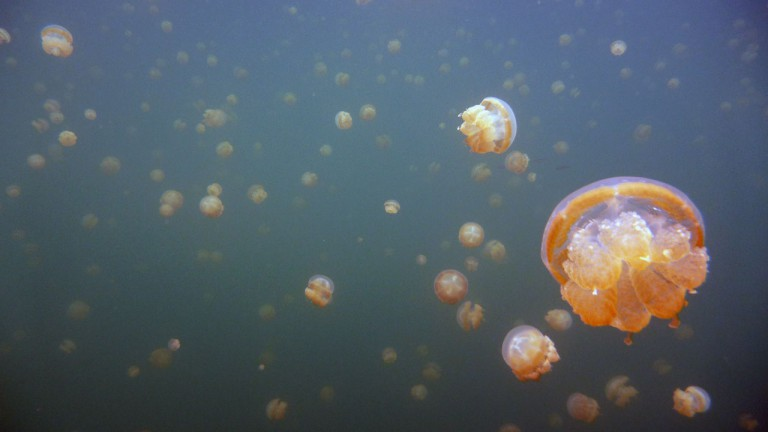jellyfish: (534, 172, 734, 343), (488, 320, 561, 390), (451, 94, 526, 158), (431, 266, 473, 309), (295, 272, 338, 313), (666, 383, 710, 418), (451, 216, 490, 251), (34, 24, 75, 57)
